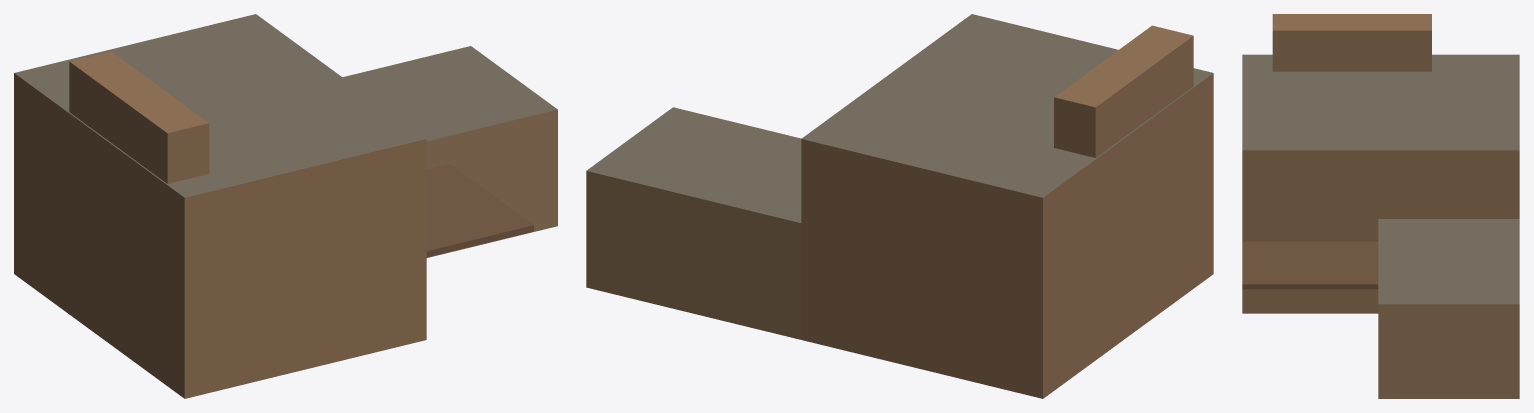
File: cr-adobe-courtyard.towns-v1.lod2.glb
3 renders of one model, left to right at view 1: azimuth 30°, elevation 25°; view 2: azimuth 150°, elevation 25°; view 3: azimuth 270°, elevation 25°, orthographic. The views are drawn at different scales.
Parts seen in each view (by area): view 1: cr-adobe-courtyard; view 2: cr-adobe-courtyard; view 3: cr-adobe-courtyard.
Boxes of the visible parts, left/top/right/bottom form: cr-adobe-courtyard: left=14, top=14, right=557, bottom=398; cr-adobe-courtyard: left=586, top=14, right=1213, bottom=398; cr-adobe-courtyard: left=1242, top=14, right=1519, bottom=398.
Bounding box in the file's own units: 17 × 8.95 × 11.
